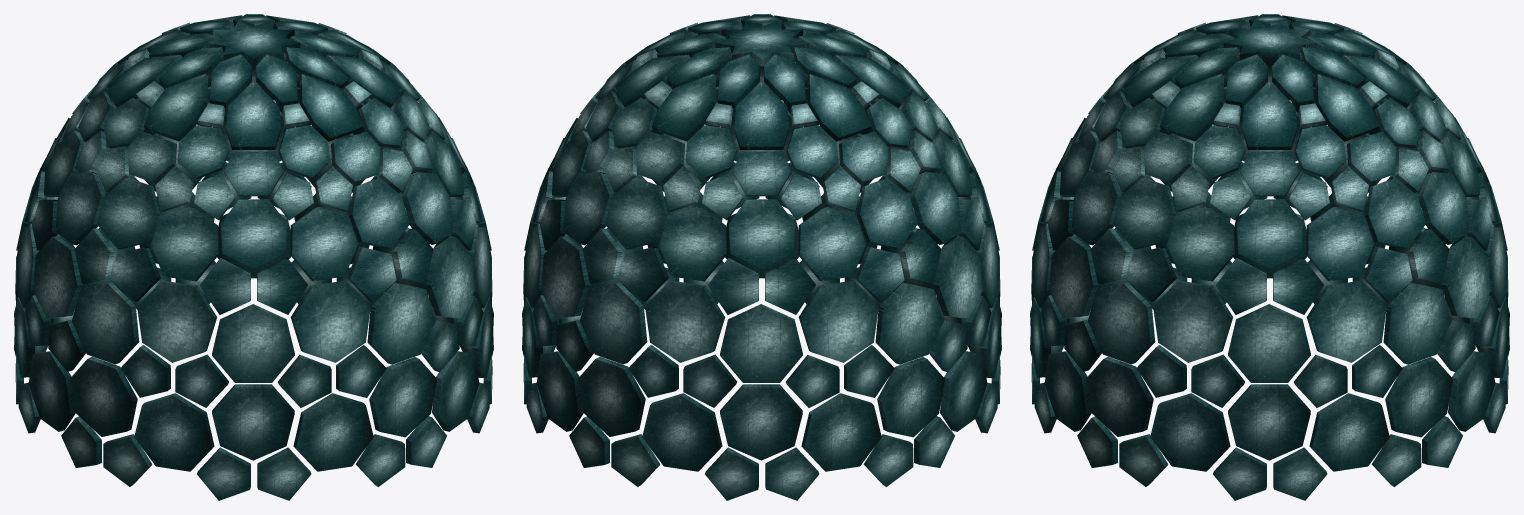
The model's file is Dome.fbx.
3 views of the same model, side by side, from view 1: azimuth 30°, elevation 25°; view 2: azimuth 150°, elevation 25°; view 3: azimuth 270°, elevation 25° (orthographic).
Visible parts, largest first — view 1: polySurface54, polySurface45, polySurface46, polySurface23, polySurface14, polySurface15, polySurface53, polySurface55, polySurface24, polySurface22, polySurface74, polySurface82 (+73 smaller); view 2: polySurface48, polySurface39, polySurface40, polySurface29, polySurface20, polySurface21, polySurface47, polySurface49, polySurface4, polySurface28, polySurface80, polySurface166 (+73 smaller); view 3: polySurface51, polySurface42, polySurface43, polySurface26, polySurface17, polySurface18, polySurface50, polySurface52, polySurface27, polySurface25, polySurface77, polySurface76 (+73 smaller).
Part boxes in pixels (x1,y1,x2,y2): polySurface54: (212, 304, 294, 382); polySurface45: (290, 280, 370, 362); polySurface46: (137, 280, 217, 362); polySurface23: (212, 384, 294, 460); polySurface14: (134, 393, 214, 471); polySurface15: (293, 393, 373, 471); polySurface53: (367, 282, 435, 364); polySurface55: (71, 282, 139, 364); polySurface24: (369, 357, 437, 437); polySurface22: (70, 356, 137, 436); polySurface74: (290, 206, 357, 281); polySurface82: (151, 206, 218, 281); polySurface48: (720, 304, 802, 382); polySurface39: (798, 280, 878, 362); polySurface40: (645, 280, 725, 362); polySurface29: (720, 384, 802, 460); polySurface20: (642, 393, 722, 471); polySurface21: (801, 393, 881, 471); polySurface47: (875, 282, 943, 364); polySurface49: (579, 282, 647, 364); polySurface4: (877, 357, 945, 437); polySurface28: (578, 356, 645, 436); polySurface80: (798, 206, 865, 281); polySurface166: (659, 206, 726, 281); polySurface51: (1228, 304, 1310, 382); polySurface42: (1306, 280, 1386, 362); polySurface43: (1153, 280, 1233, 362); polySurface26: (1228, 384, 1310, 460); polySurface17: (1150, 393, 1230, 471); polySurface18: (1309, 393, 1389, 471); polySurface50: (1383, 282, 1451, 364); polySurface52: (1087, 282, 1155, 364); polySurface27: (1385, 357, 1453, 437); polySurface25: (1086, 356, 1153, 436); polySurface77: (1306, 206, 1373, 281); polySurface76: (1167, 206, 1234, 281).
Bounding box in the file's own units: 33.89 × 28.19 × 33.87.
